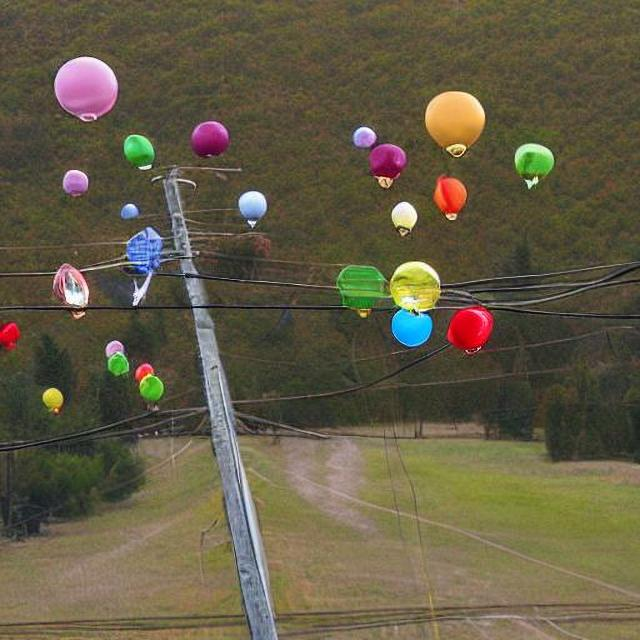balloon: (330, 264, 494, 358), (388, 296, 497, 356), (417, 86, 487, 160), (49, 54, 120, 124), (386, 277, 448, 340), (356, 131, 410, 191), (386, 260, 442, 316), (182, 117, 234, 166), (509, 139, 555, 189), (388, 304, 433, 349), (427, 173, 470, 220), (50, 260, 90, 310), (31, 377, 71, 422), (101, 334, 134, 379), (239, 186, 274, 227), (132, 360, 164, 404), (119, 132, 156, 170), (0, 312, 28, 358), (387, 198, 419, 236), (112, 196, 142, 226), (60, 167, 89, 196), (350, 124, 378, 151)
